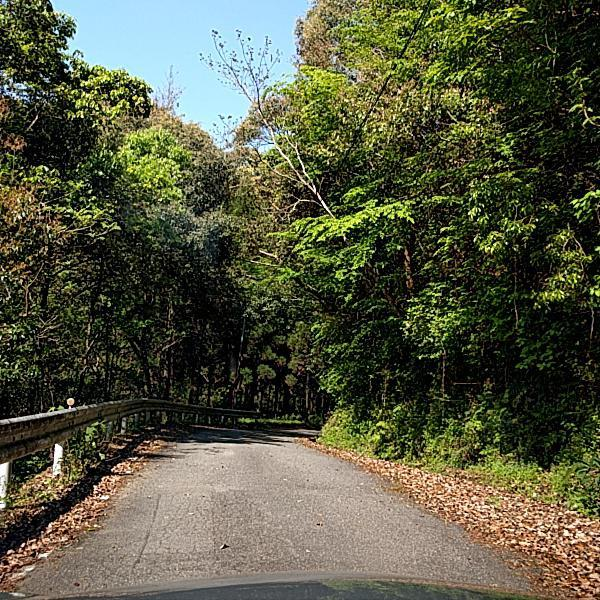D00: (126, 491, 160, 576)
